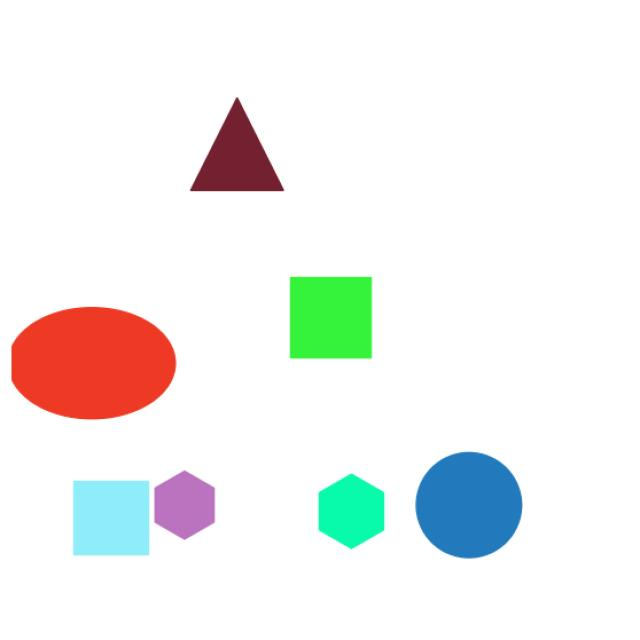Circle: (407, 438, 552, 582)
Hexagon: (297, 465, 403, 567), (144, 462, 232, 547)
Oval: (2, 300, 195, 426)
Triangle: (176, 80, 291, 209)
square: (277, 266, 384, 374), (62, 471, 159, 562)
